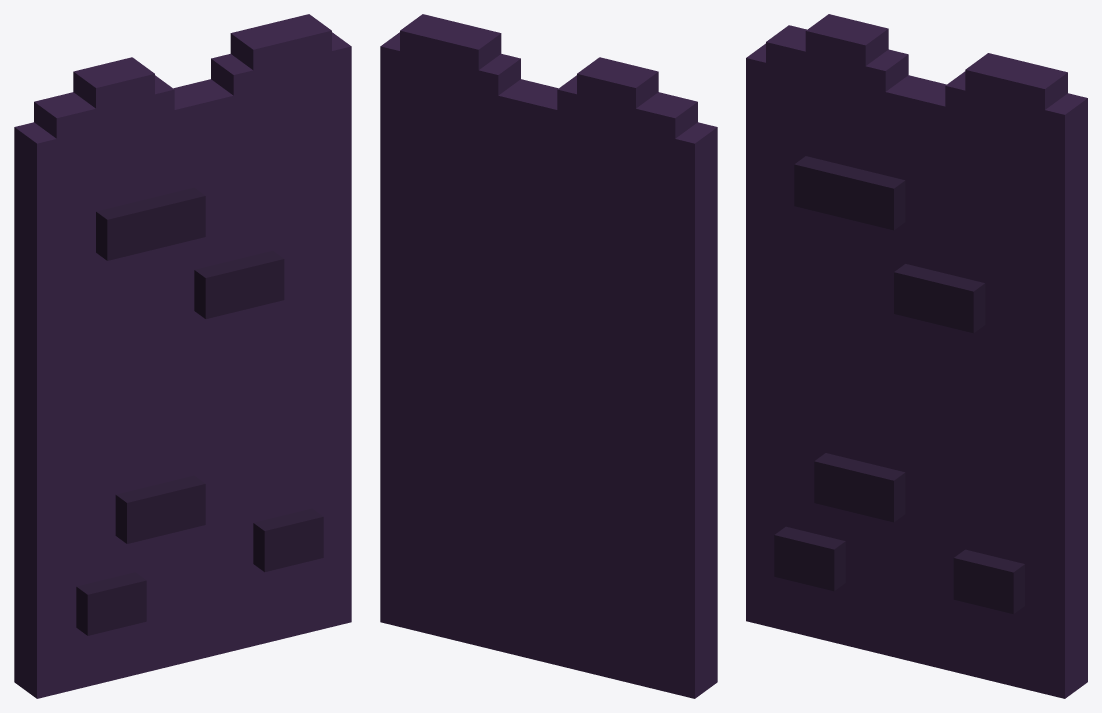
The model's file is wall_1.obj.
The picture shows the model from 3 angles, left to right: view 1: azimuth 30°, elevation 25°; view 2: azimuth 150°, elevation 25°; view 3: azimuth 330°, elevation 25°; orthographic projection.
Size of the model in its own units: 3.2 by 5.8 by 0.6.
1 material, 1 textured.
